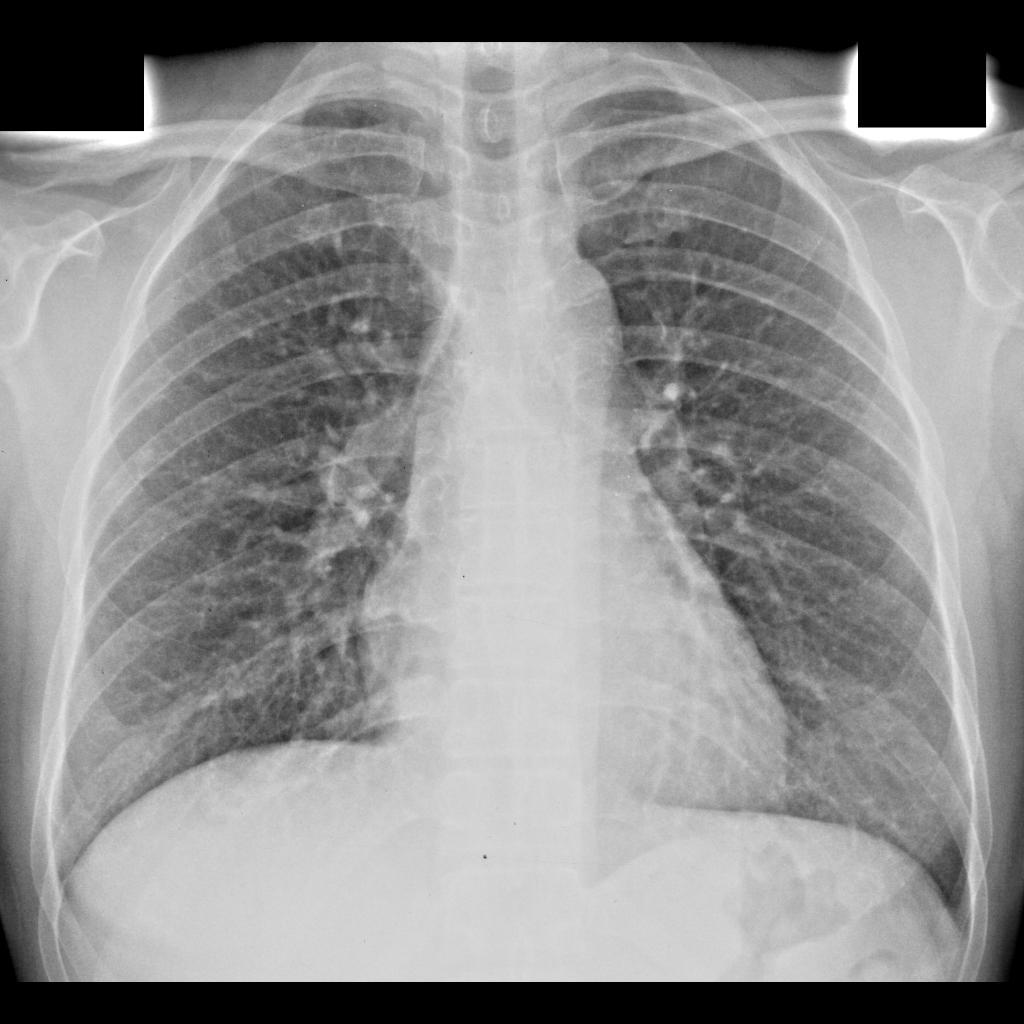Nodule: (398, 673, 454, 729)
